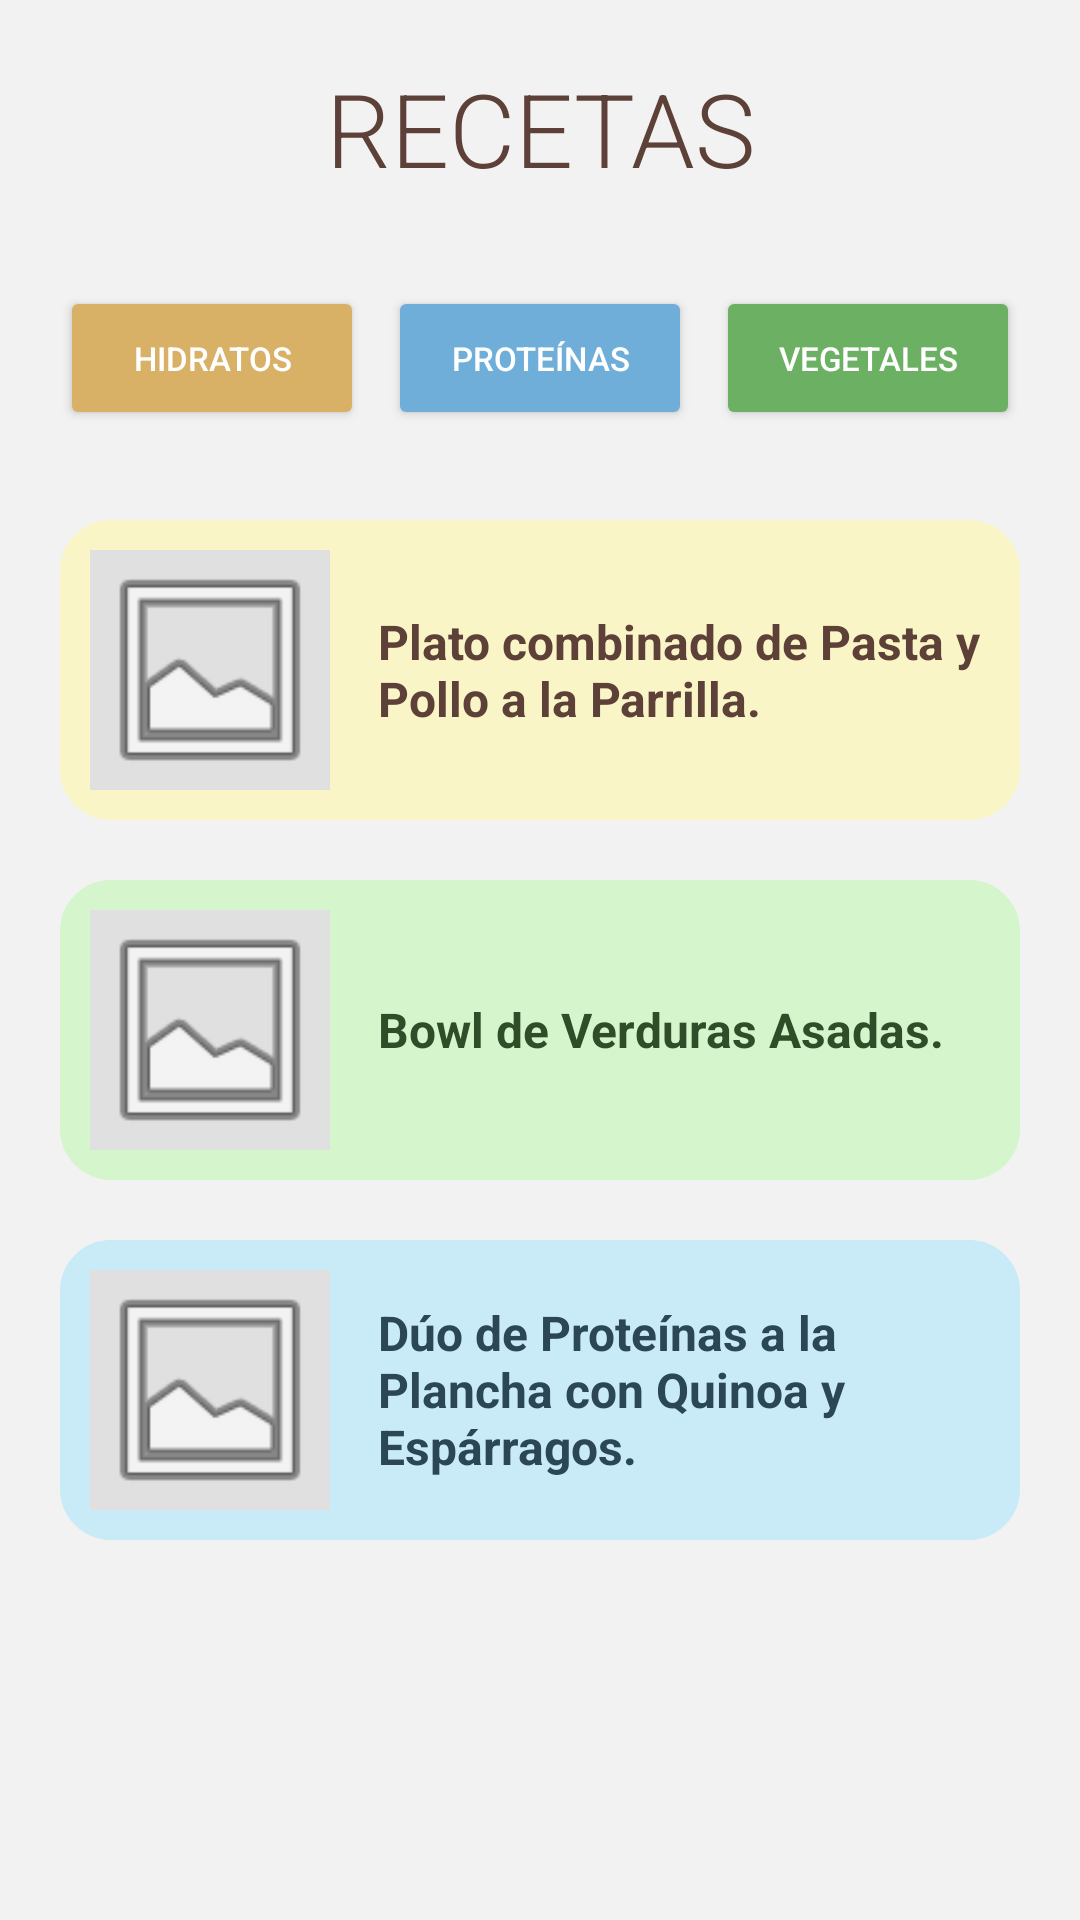

Locate icon controls on the screen. Image size 1080w x 1920h, boxes as detection(x1, y1, x2, y2).
gallery: detection(90, 550, 330, 790), detection(119, 938, 301, 1122), detection(119, 1297, 301, 1483)
